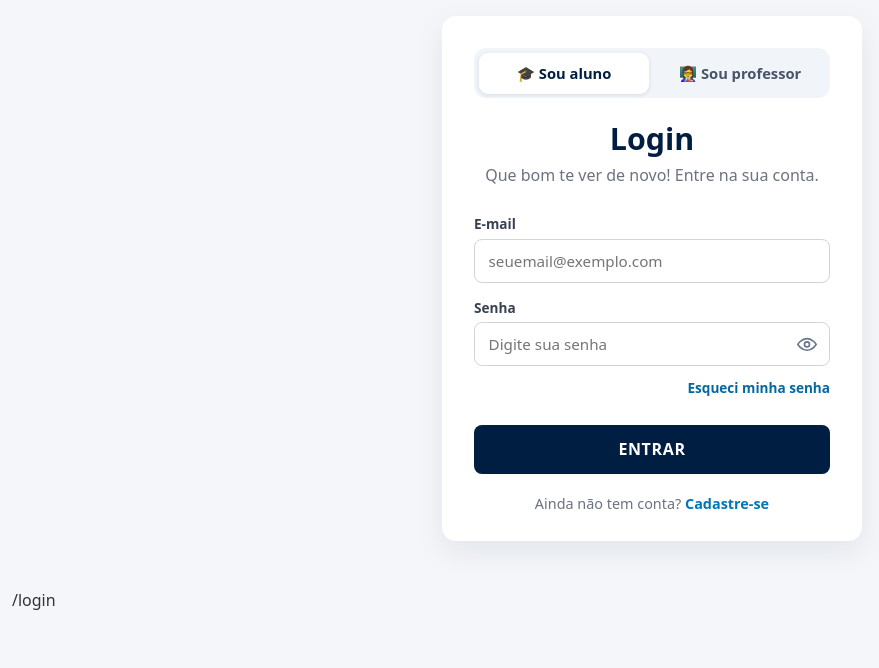
Sou professor › troca de aba e o professor entra no portal
This screenshot has width=879, height=668.
Click the tab "👩‍🏫 Sou professor".
click(740, 73)  # box [655, 53, 825, 94]
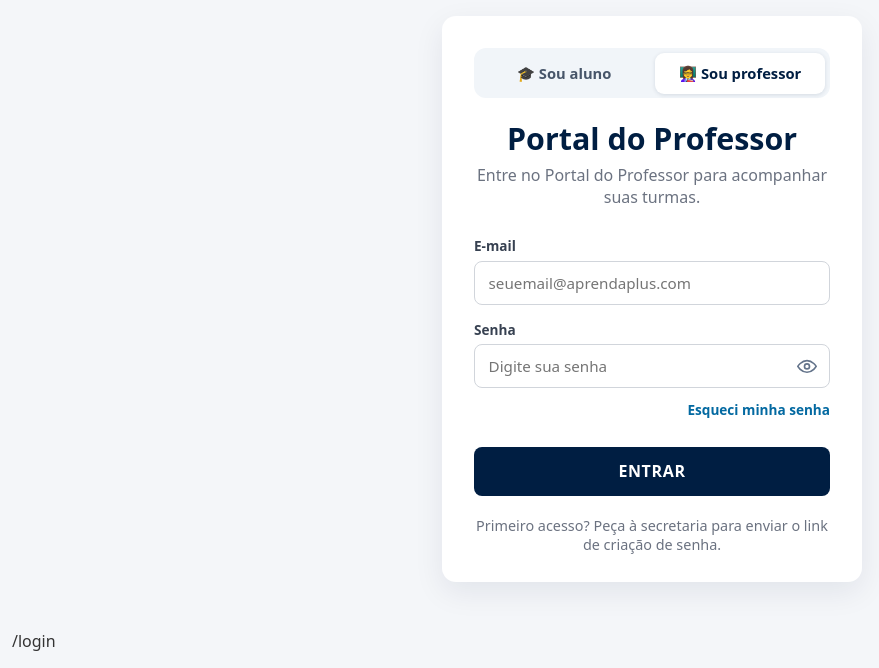
Expected: the heading "Portal do Professor" is shown, [507, 118, 797, 159]
Expected: the text "Peça à secretaria" is shown, [476, 516, 828, 554]
Expected: the link "Cadastre-se" is gone
Type "prof@x.com" into the field labelled "E-mail".
click(652, 283); type("prof@x.com")  # box [474, 261, 830, 305]
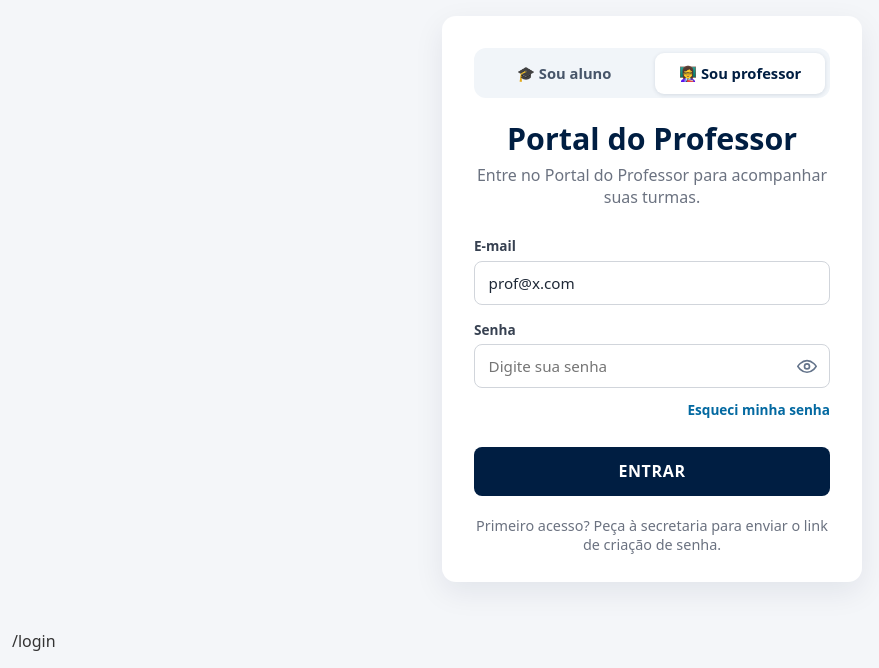
Type "prof123" into the password field labelled "Senha".
click(652, 366); type("prof123")  # box [474, 344, 830, 388]
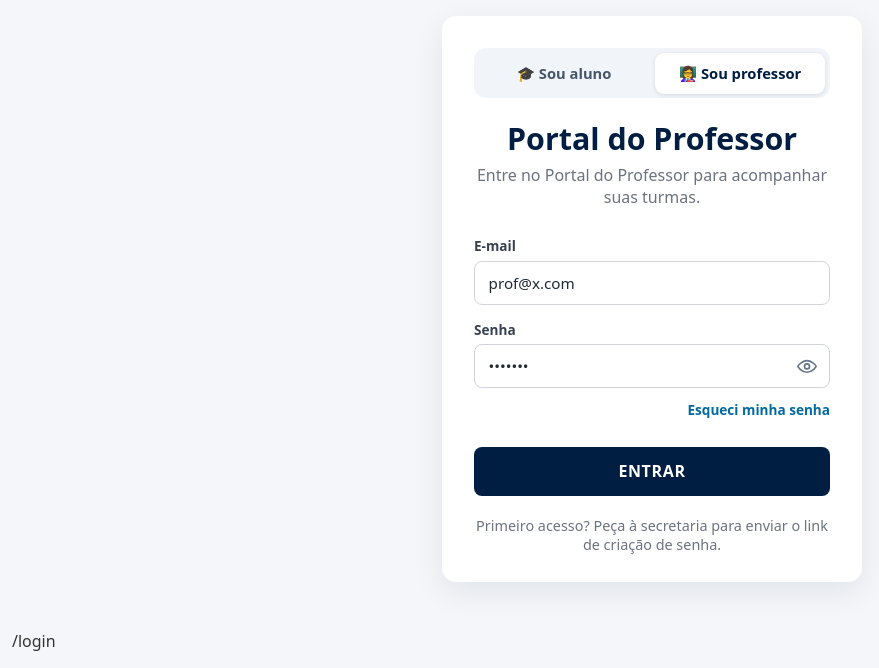
Click the button "ENTRAR".
click(652, 471)  # box [474, 447, 830, 496]
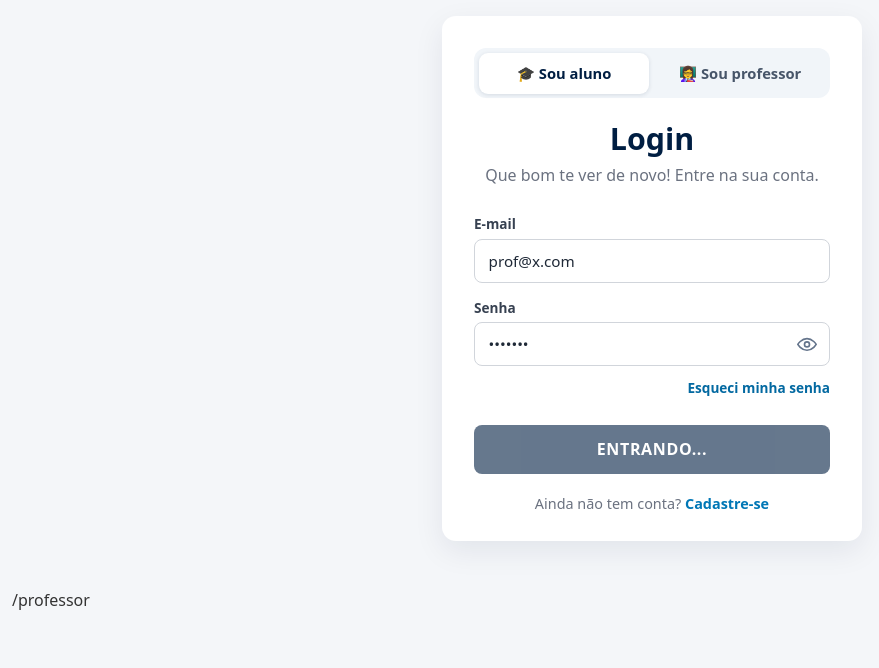
Expected: the text with test id "endereco" reads "/professor", [12, 589, 90, 611]
